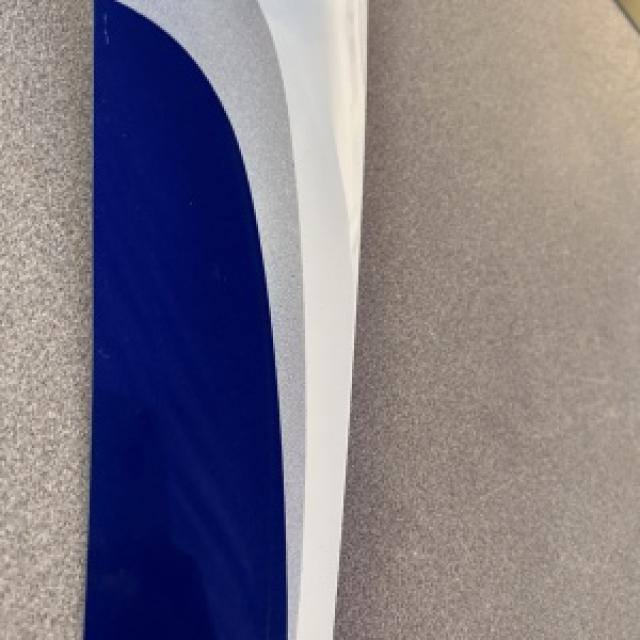healthy: (333, 0, 638, 638), (83, 0, 363, 638)
